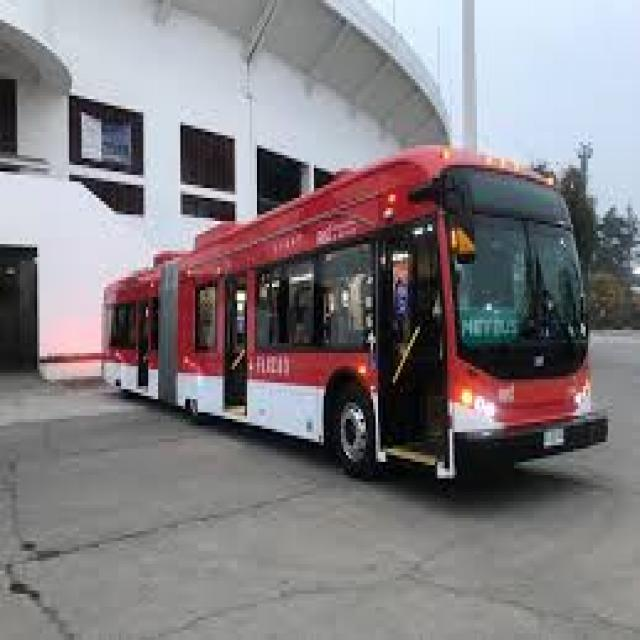AB: (99, 142, 620, 501)
